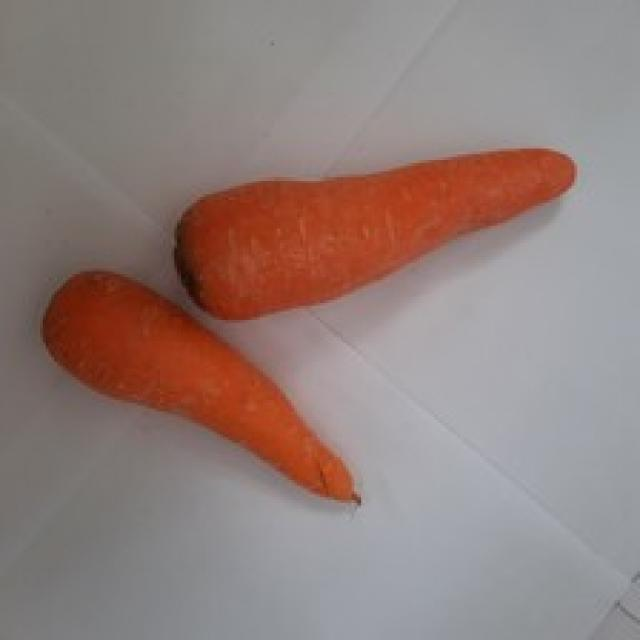carrot: (41, 266, 362, 506), (176, 143, 576, 318)
